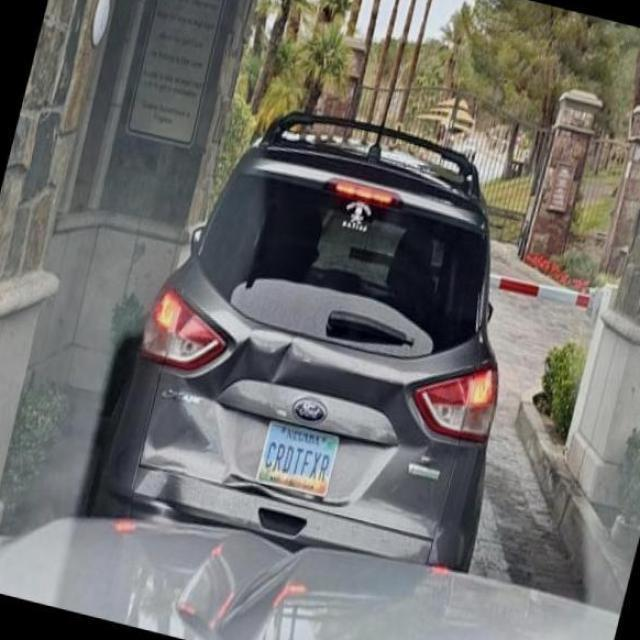license-plate: (251, 422, 351, 492)
